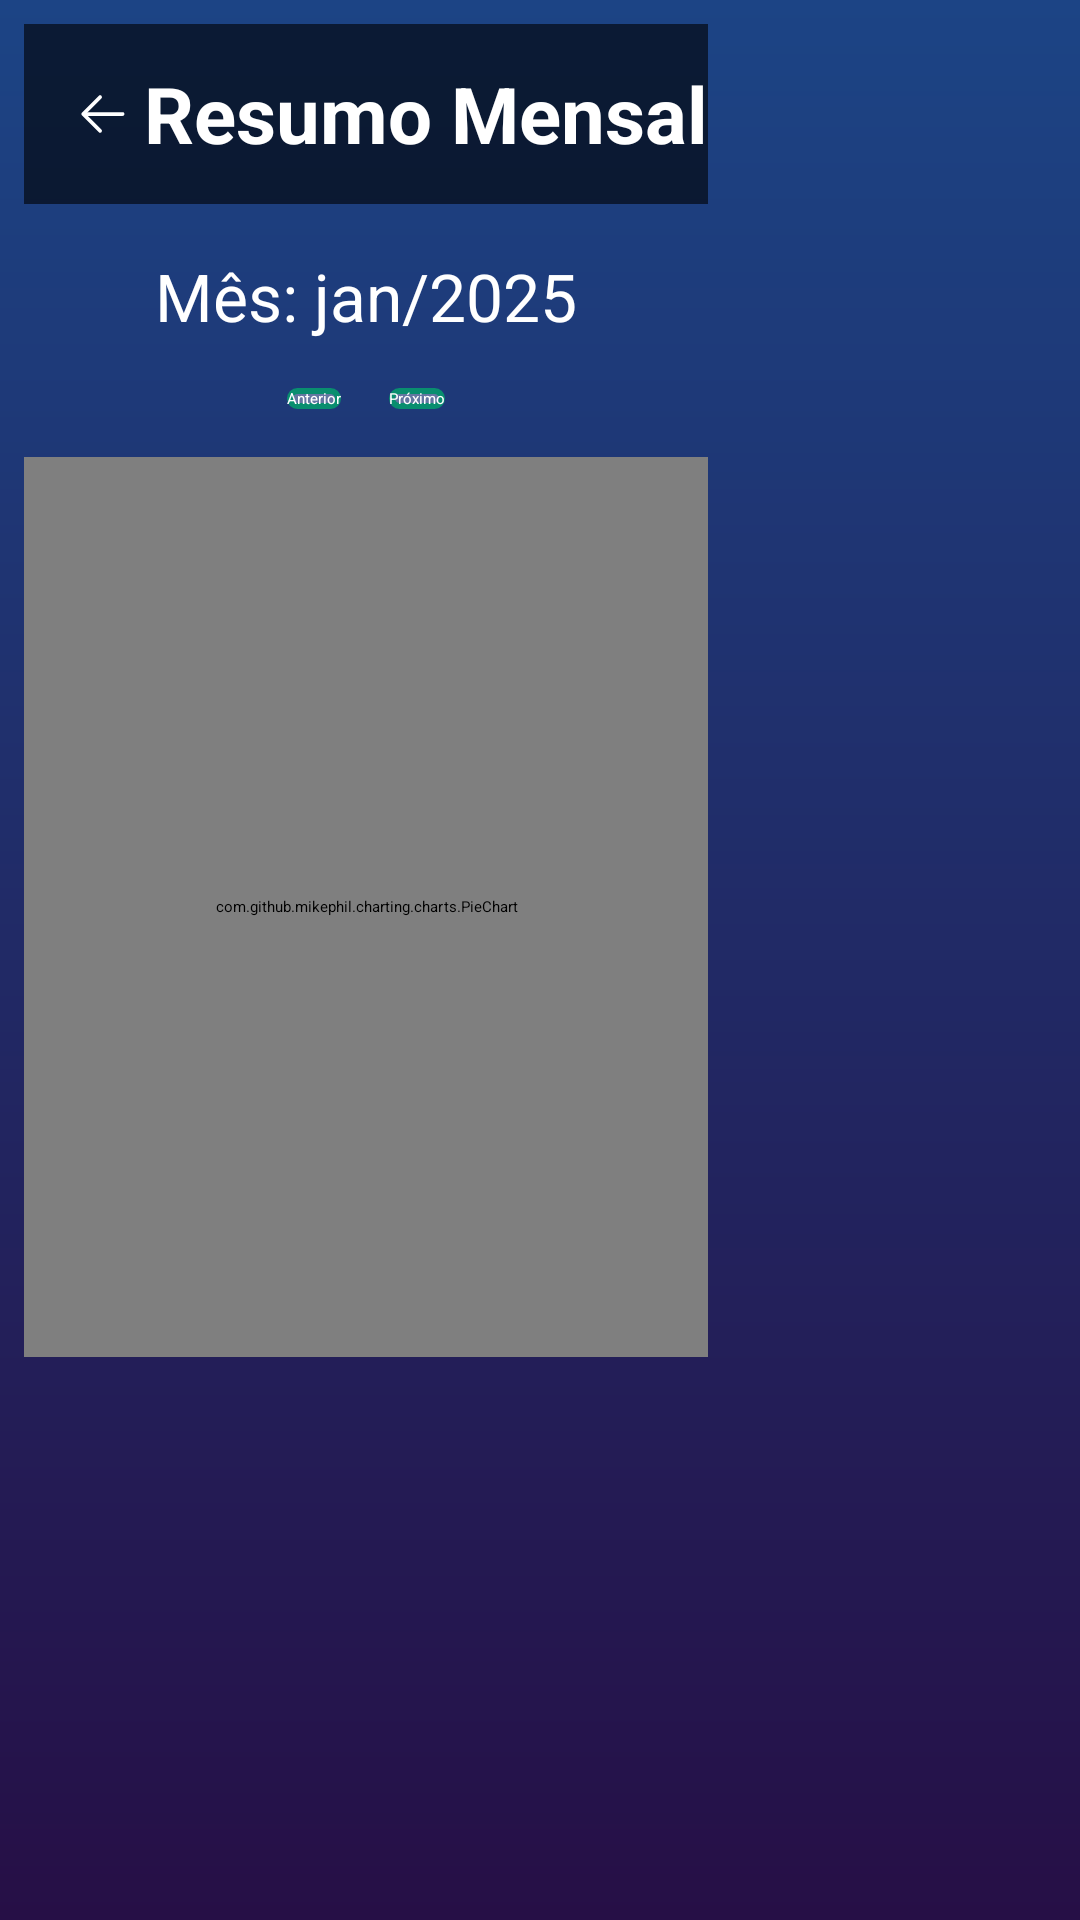

Locate icon controls on the screen. Image size 1080x1920, boxes as (x1, y1, x2, y2).
Voltar: (81, 95, 125, 133)
